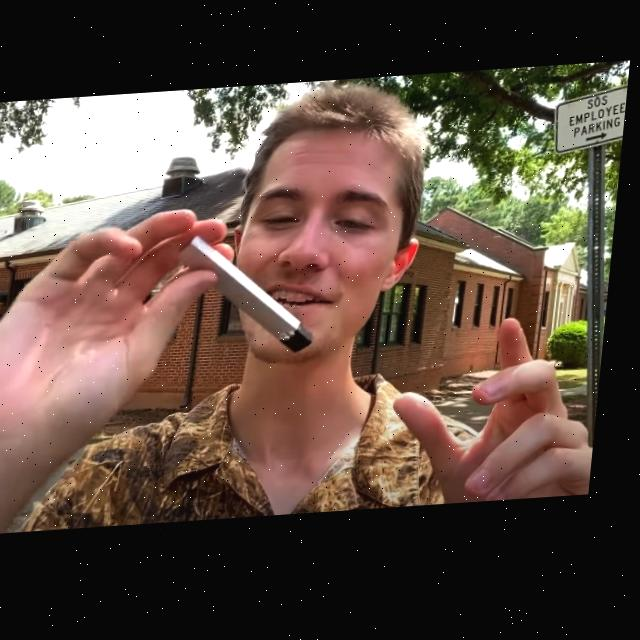vape: (175, 232, 328, 365)
